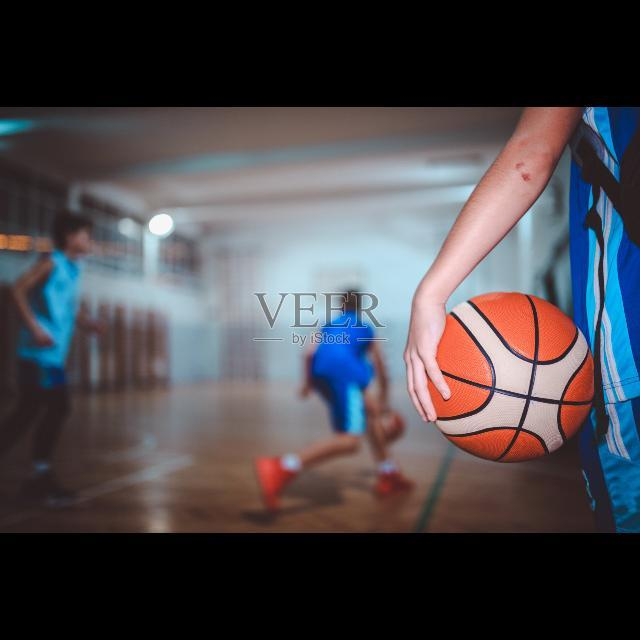basketball: (430, 294, 594, 464)
